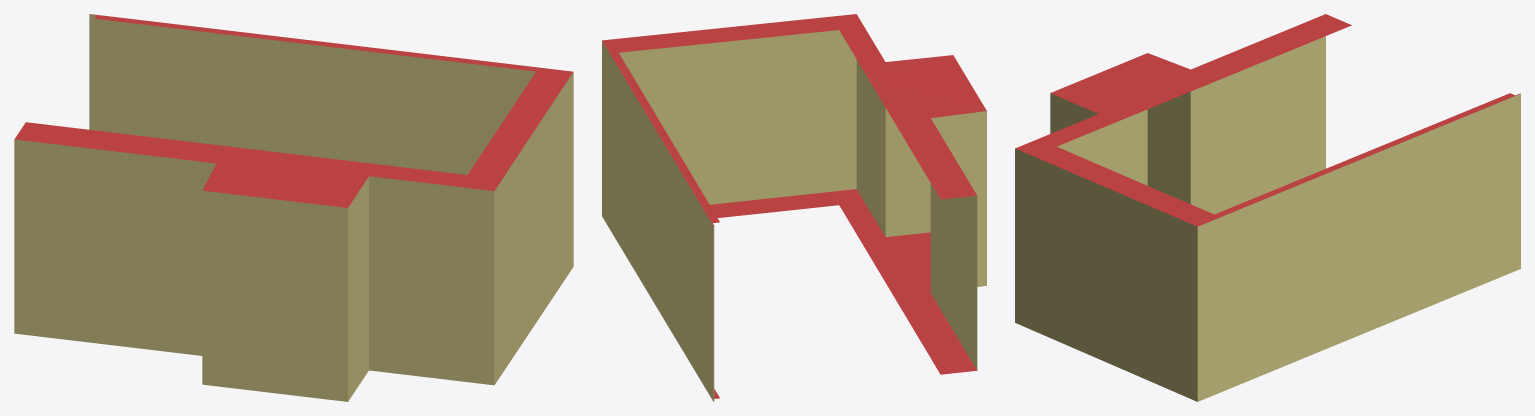
The picture shows the model from 3 angles, left to right: view 1: azimuth 30°, elevation 25°; view 2: azimuth 150°, elevation 25°; view 3: azimuth 270°, elevation 25°; orthographic projection. The views are drawn at different scales.
Visible parts, largest first — view 1: group_4, group_3; view 2: group_4, group_3, group_5; view 3: group_4, group_3.
Boxes of the visible parts, x1,y1,x2,y2 form: group_4: (14, 14, 573, 401); group_3: (15, 14, 572, 207); group_4: (602, 30, 986, 401); group_3: (602, 14, 986, 225); group_5: (710, 189, 976, 398); group_4: (1015, 36, 1520, 401); group_3: (1015, 14, 1520, 226).
Bounding box in the file's own units: 19.13 × 19.14 × 7.32.
